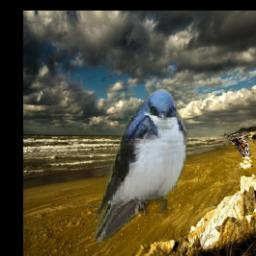Sparrow: (223, 132, 251, 157)
Swallow: (91, 85, 188, 243)
